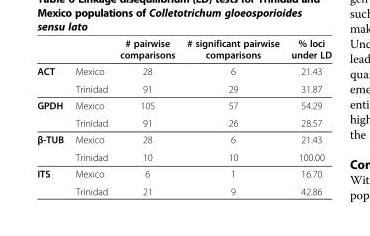table: (36, 37, 331, 196)
table column: (180, 37, 284, 196), (113, 37, 180, 196), (284, 37, 331, 196), (68, 37, 113, 196), (36, 37, 68, 196)
table column header: (36, 37, 331, 62)
table row: (36, 37, 331, 62), (36, 130, 331, 148), (36, 62, 331, 79), (36, 79, 331, 96), (36, 96, 331, 113), (36, 113, 331, 130), (36, 148, 331, 165), (36, 165, 331, 182), (36, 182, 331, 196)
table spanning cell: (36, 130, 68, 165), (36, 62, 68, 96), (36, 96, 68, 130), (36, 165, 68, 196)
